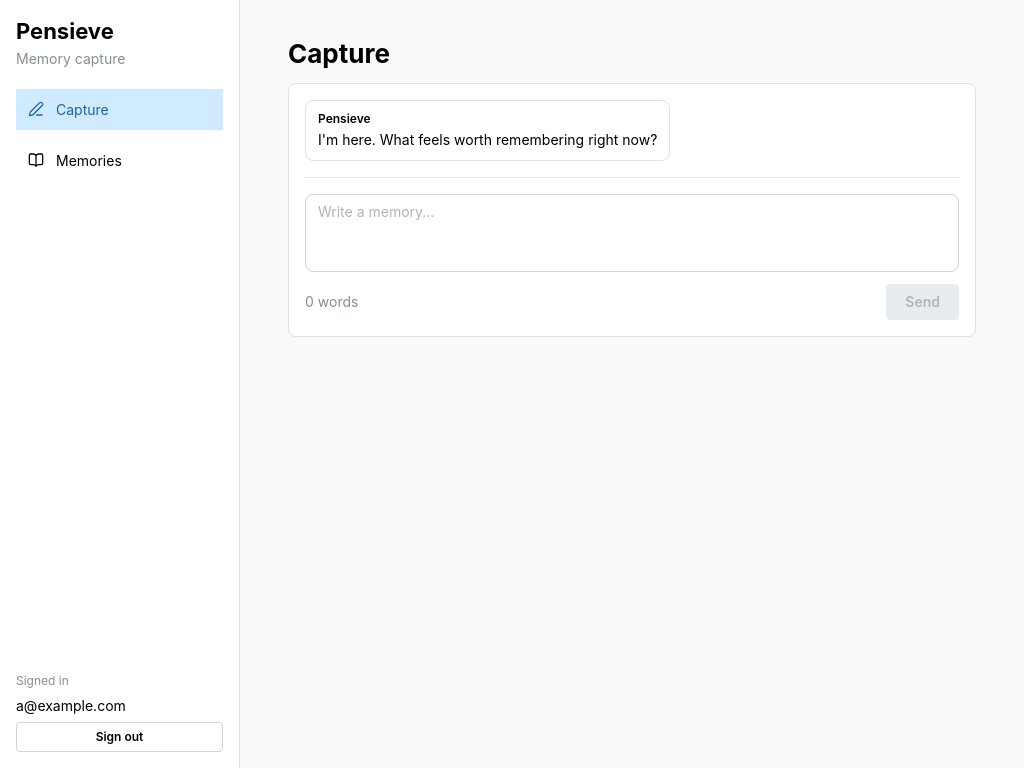
Test: App memory flow › opens detail, edits, and confirms before deleting a memory
The width and height of the screenshot is (1024, 768).
Click the button "Memories" at (120, 160), box [16,140,223,181]
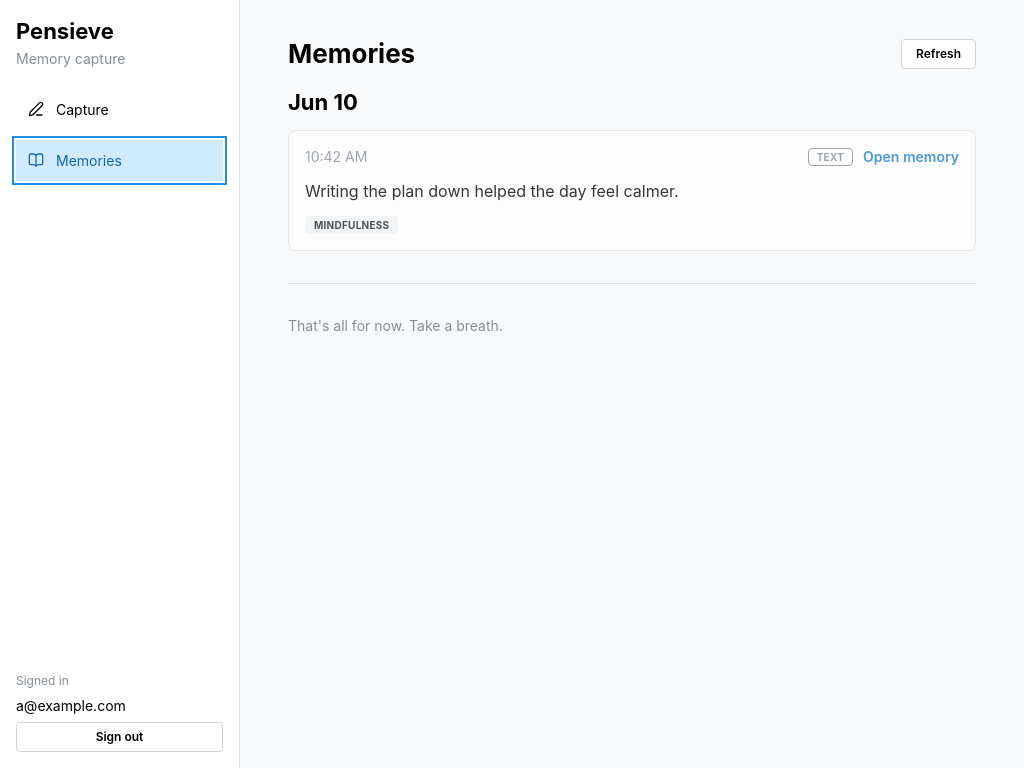
Click the link named "Open memory: Writing the plan down" at (632, 190), box [288,130,976,251]
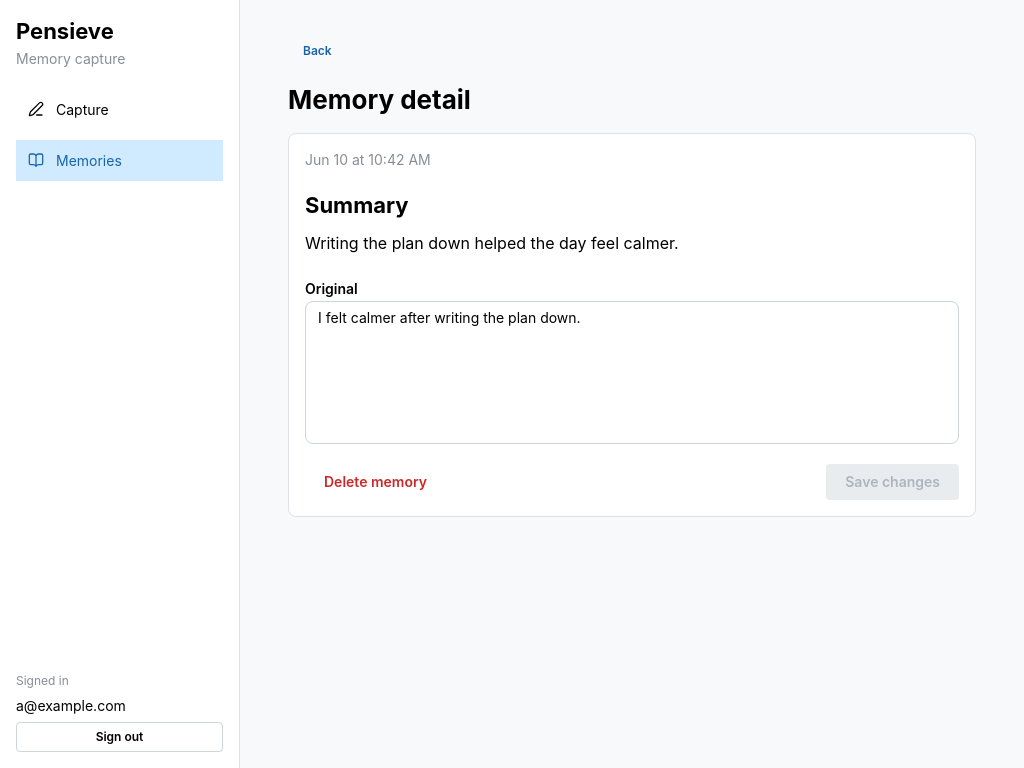
Check: the heading "Summary" is shown, box [305,192,409,218]
Check: the text box named "Original memory input" holds "I felt calmer after writing the plan down."
Replace the text in the text box named "Original memory input" with "I felt calmer after writing the plan down and taking a walk." at (632, 372), box [305,301,959,444]
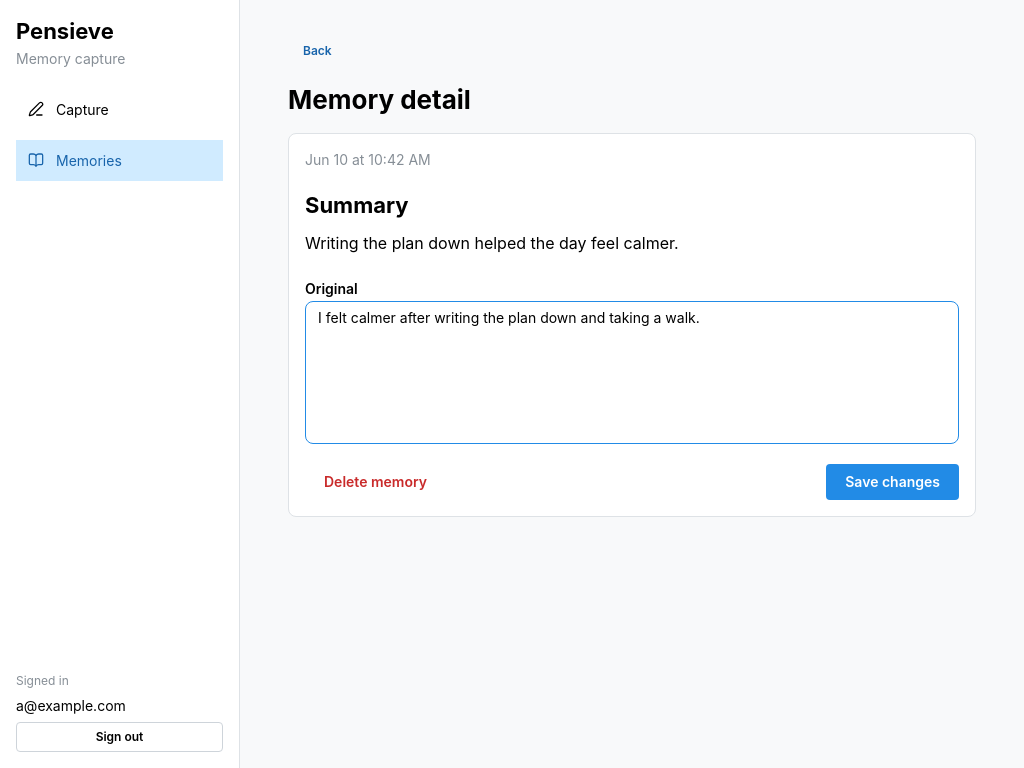
Click the button "Save changes" at (893, 482), box [826,464,959,500]
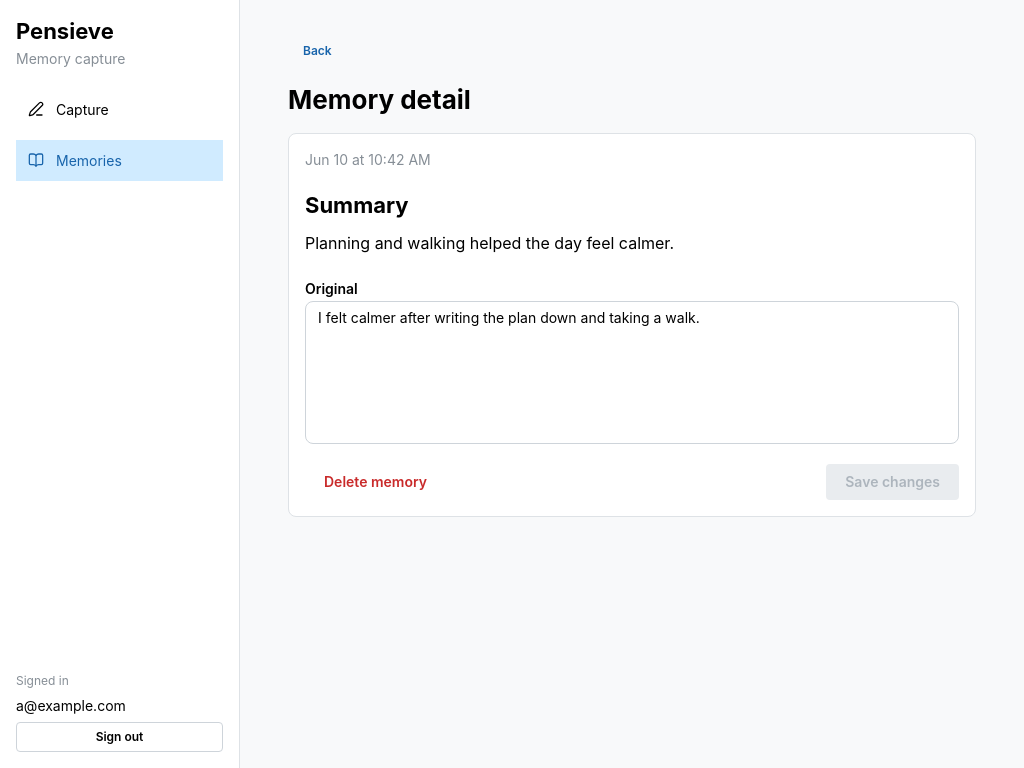
Check: the text "Planning and walking helped the day feel calmer." is shown, box [305,233,674,253]
Click the button "Delete memory" at (376, 482), box [305,464,446,500]
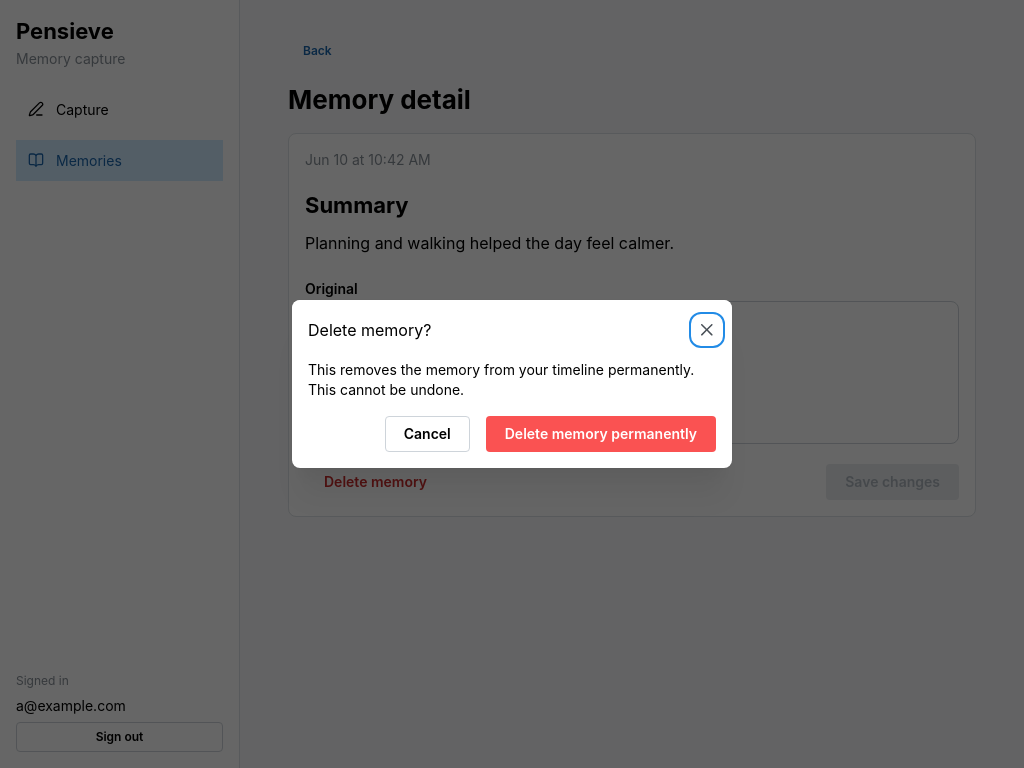
Check: the button "Delete memory permanently" is shown
Click the button "Delete memory permanently" at (601, 434), box [486,416,716,452]
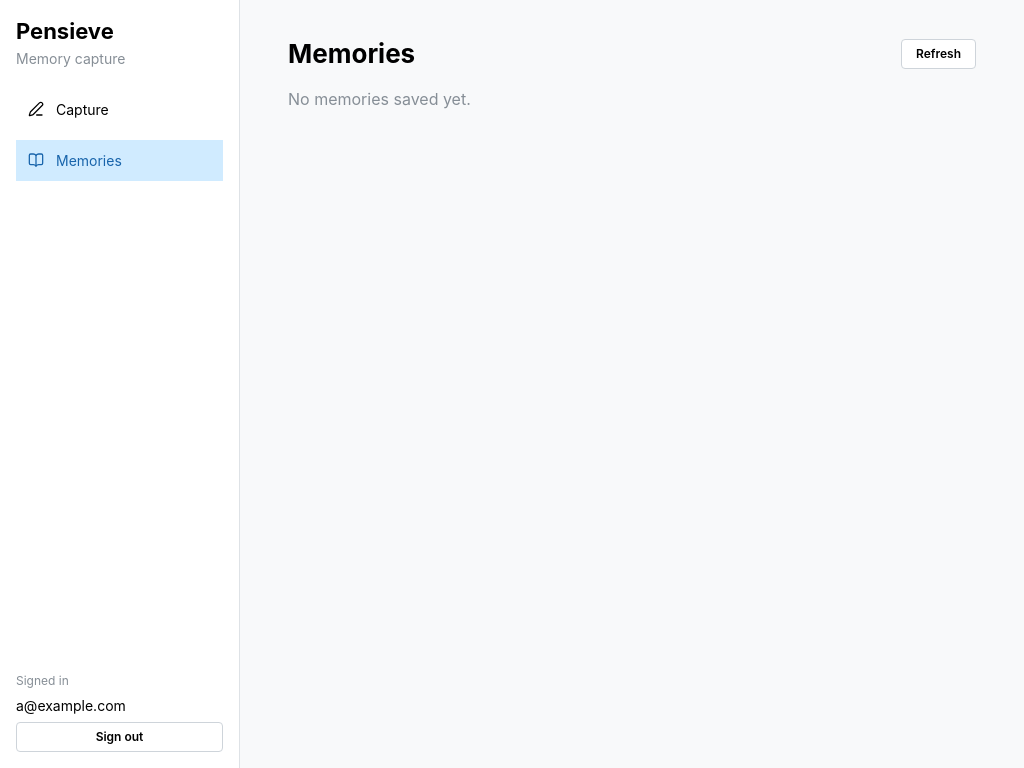
Check: the text "No memories saved yet." is shown, box [288,89,471,109]
